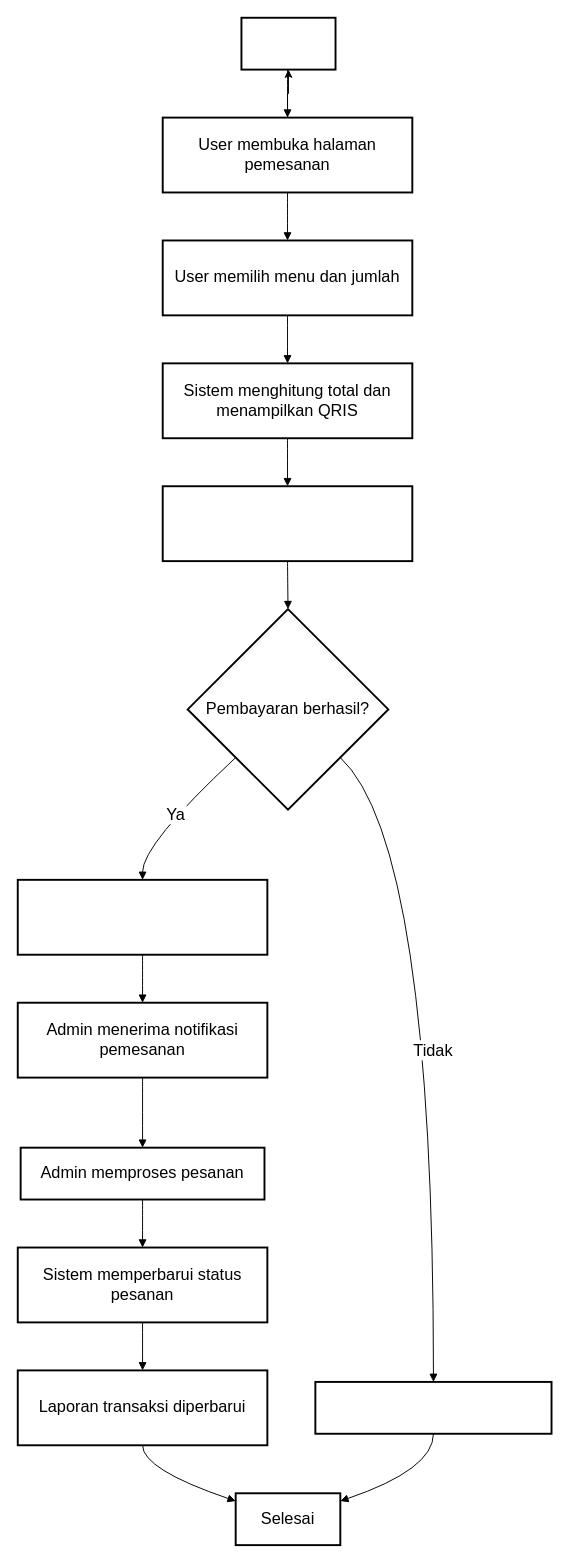
Some shapes in this 568 by 1562 pixel diagram are drawn without their labels. The shapes that lost their labels are listed below. From the top down, each one's centre as x and y in pixels, then its label:
(288,43): Mulai
(287,523): User melakukan pembayaran via e-wallet
(142,916): Sistem menyimpan data pembayaran dan transaksi
(433,1407): Tampilkan notifikasi gagal
